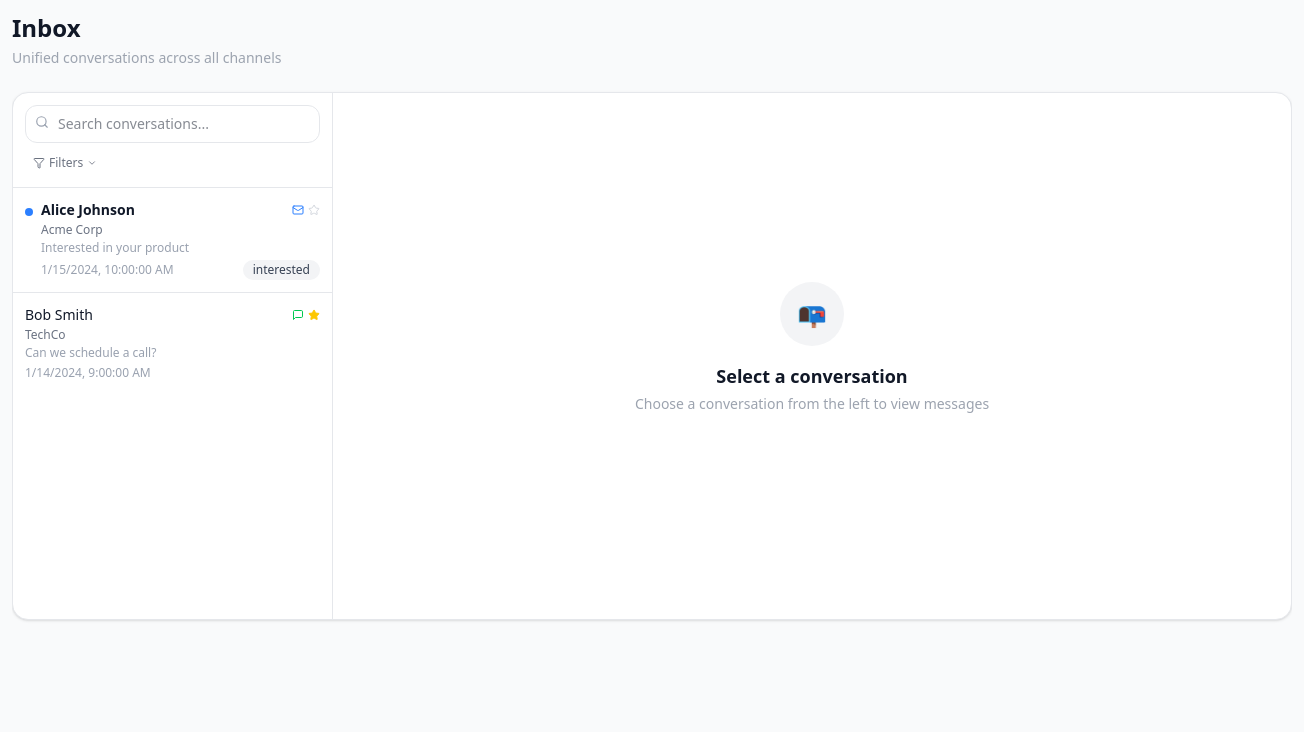
Test: UnifiedInbox › sidebar can be collapsed and expanded
The width and height of the screenshot is (1304, 732).
Click the button with test id "conversation-item-lead-1" at (172, 240), box [13,188,332,293]
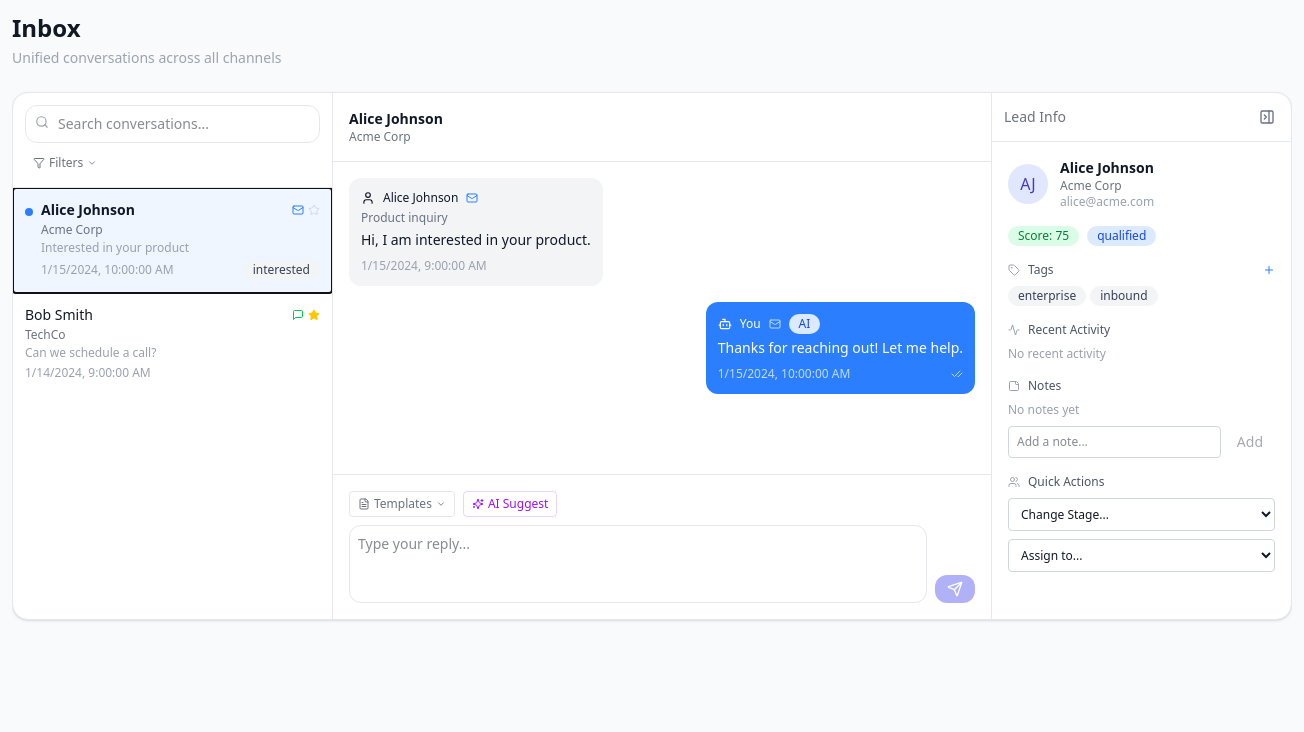
Expected: the element with test id "lead-context-sidebar" is shown, [991,93,1291,619]
Click the button with test id "sidebar-toggle" at (1267, 117), box [1255,105,1279,129]
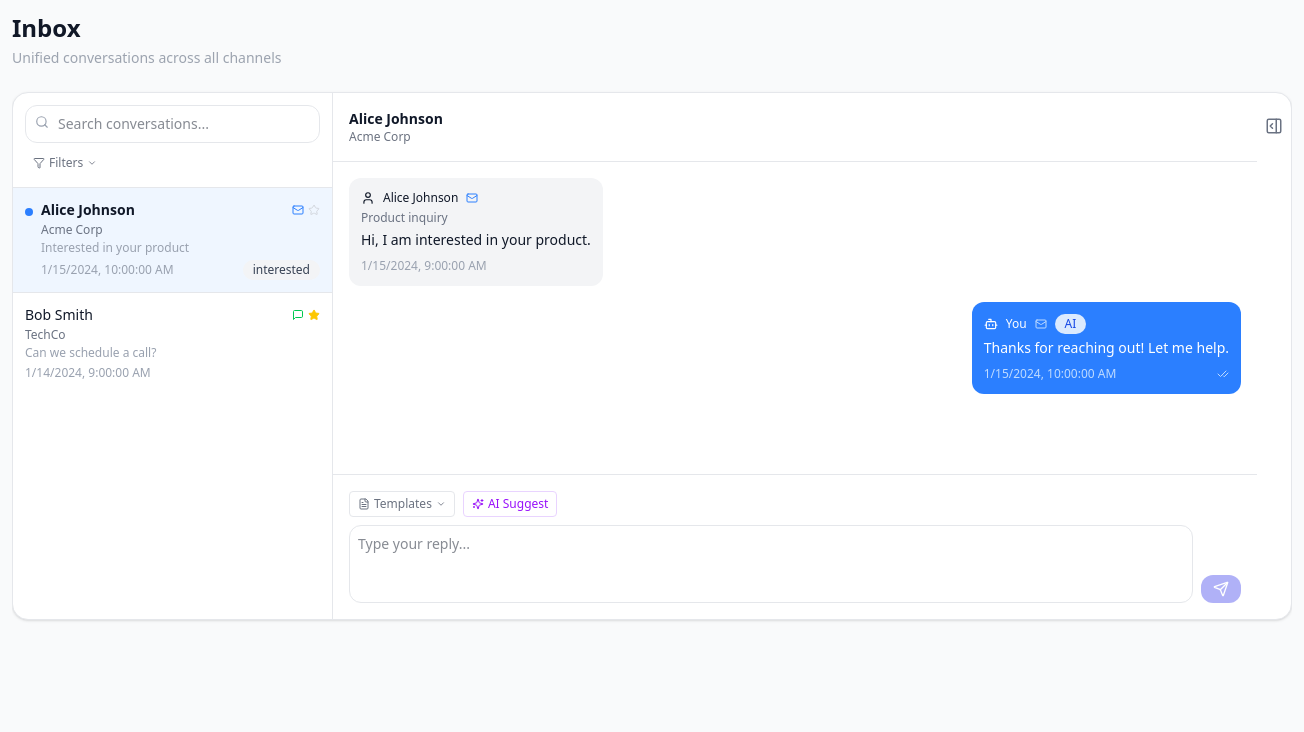
Expected: the element with test id "sidebar-collapsed" is shown, [1257,109,1291,143]
